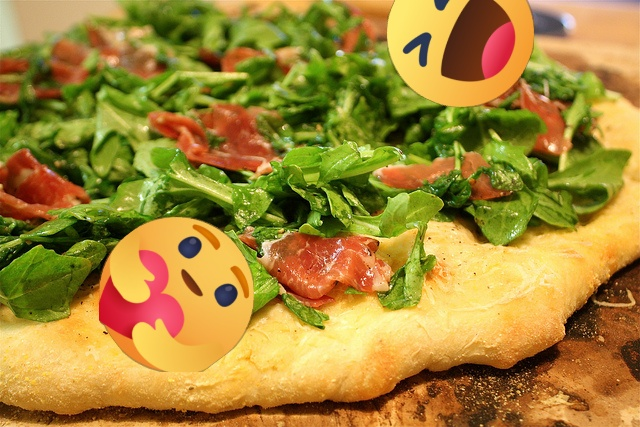care: (99, 217, 254, 372)
haha: (387, 0, 534, 107)
